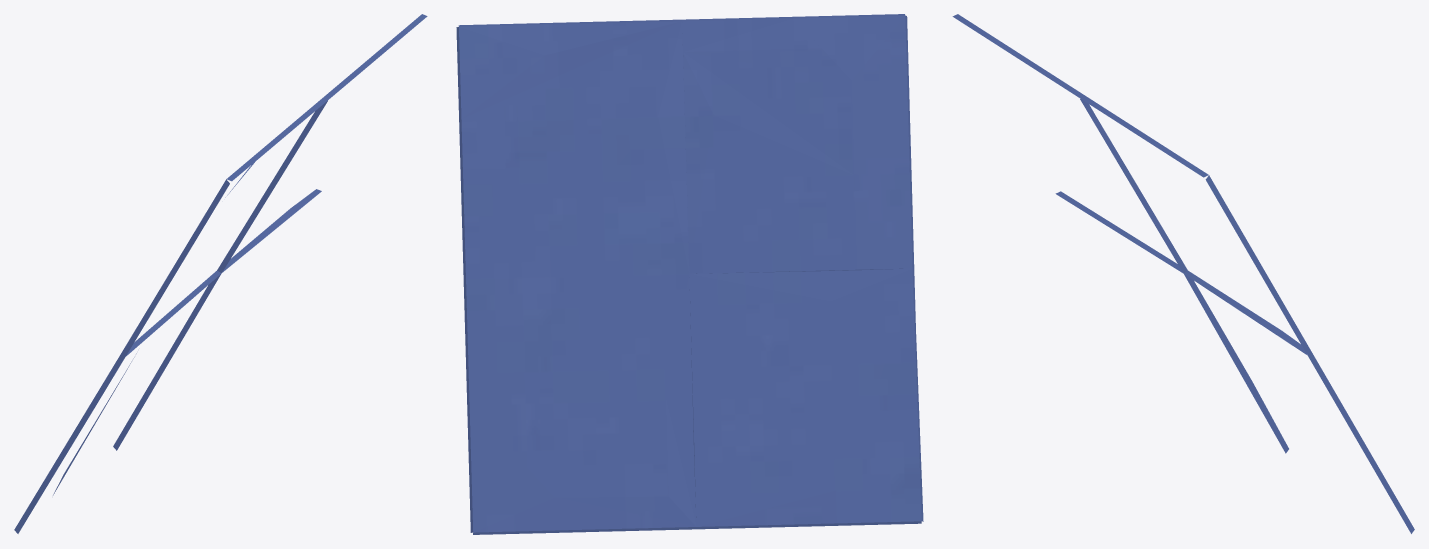
3 renders of one model, left to right at view 1: azimuth 30°, elevation 25°; view 2: azimuth 150°, elevation 25°; view 3: azimuth 270°, elevation 25°, orthographic. The views are drawn at different scales.
Bounding box in the file's own units: 79211 × 69533 × 70057.
Materials: 1 (1 with a texture image).
